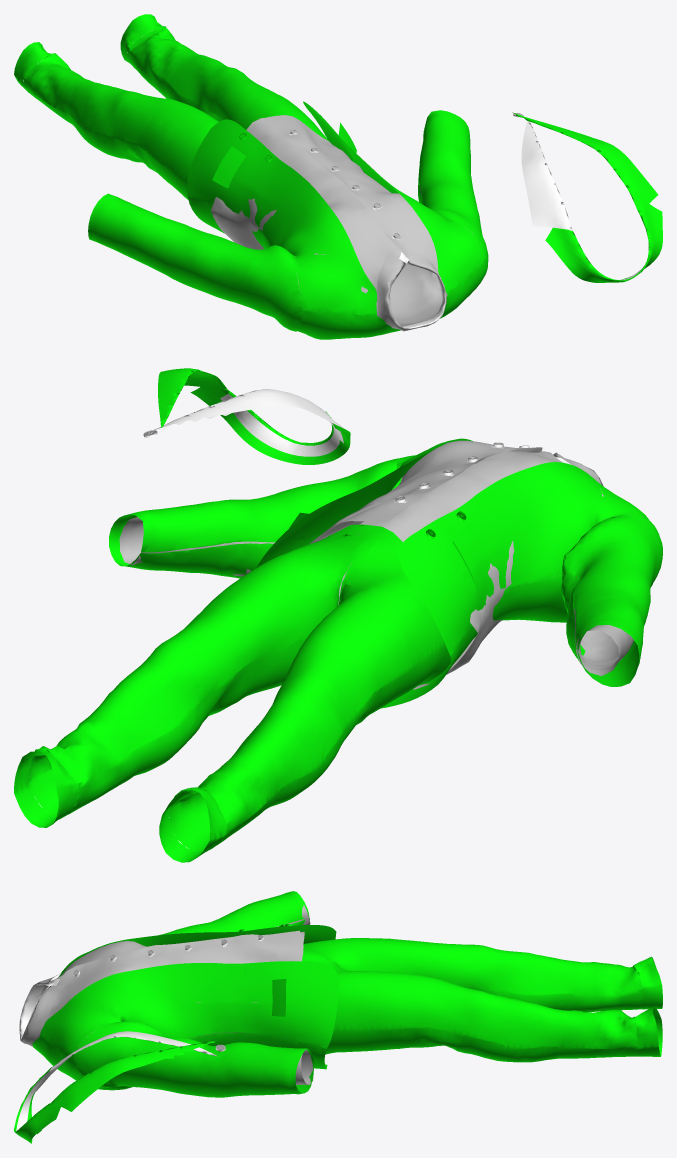
Rendered from formal 3.glb.
3 renders of one model, top to bottom at view 1: azimuth 30°, elevation 25°; view 2: azimuth 150°, elevation 25°; view 3: azimuth 270°, elevation 25°, orthographic. The views are drawn at different scales.
Parts seen in each view (by area): view 1: suit, pant, shirt, suit collar; view 2: pant, suit, shirt, suit collar; view 3: suit, pant, shirt, suit collar.
Part boxes in pixels (<box>): suit: <box>88,101,488,339</box>; pant: <box>14,14,328,199</box>; shirt: <box>210,115,482,331</box>; suit collar: <box>512,112,662,282</box>; pant: <box>14,524,450,862</box>; suit: <box>109,438,662,708</box>; shirt: <box>119,440,642,689</box>; suit collar: <box>142,368,350,464</box>; suit: <box>32,891,339,1097</box>; pant: <box>302,938,662,1062</box>; shirt: <box>19,905,313,1085</box>; suit collar: <box>14,1031,225,1143</box>.
Size of the model in its own units: 71.59 by 19.88 by 93.
